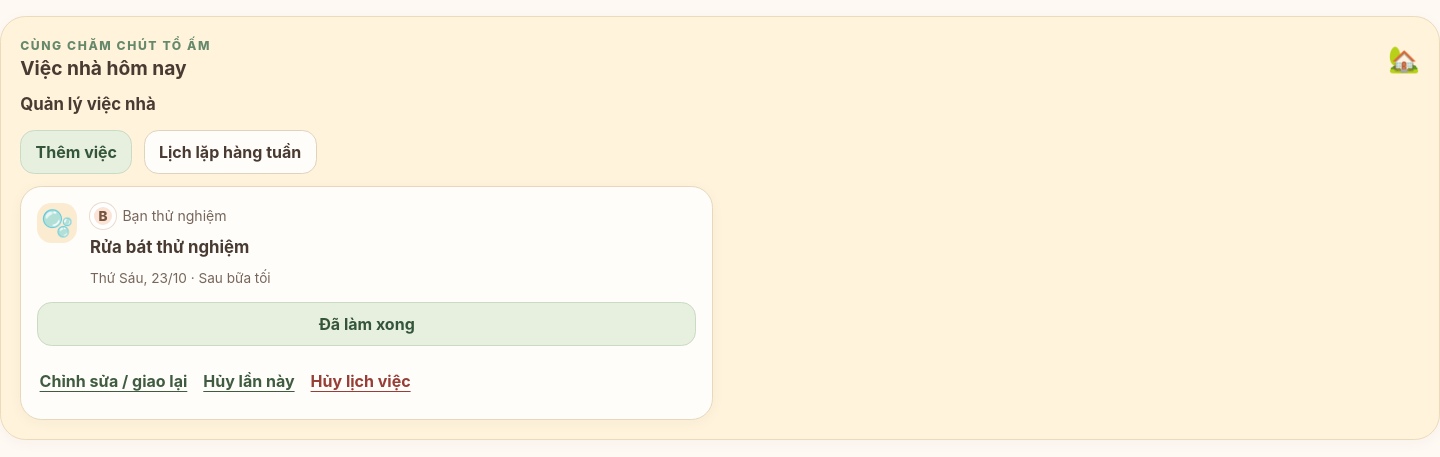
it: family chores UI › parent cancels only this occurrence, leaving a recurring pattern available
The image size is (1440, 457).
Click the button "Hủy lần này" at (249, 381), box 201,359 -> 297,403
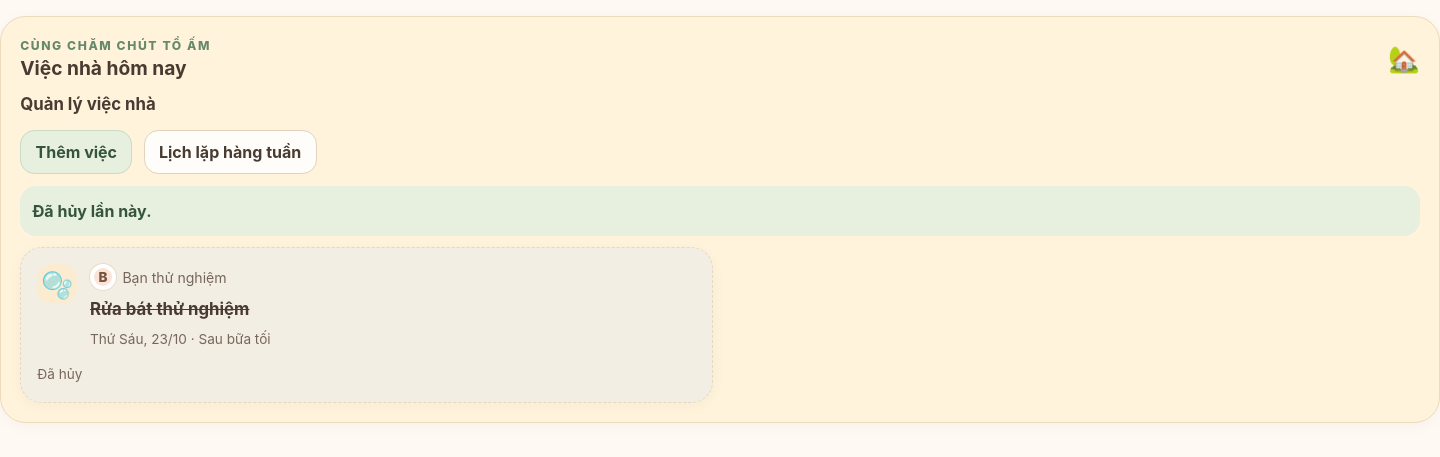
Now the text "Đã hủy lần này." is shown, box 20,186 -> 1420,236
